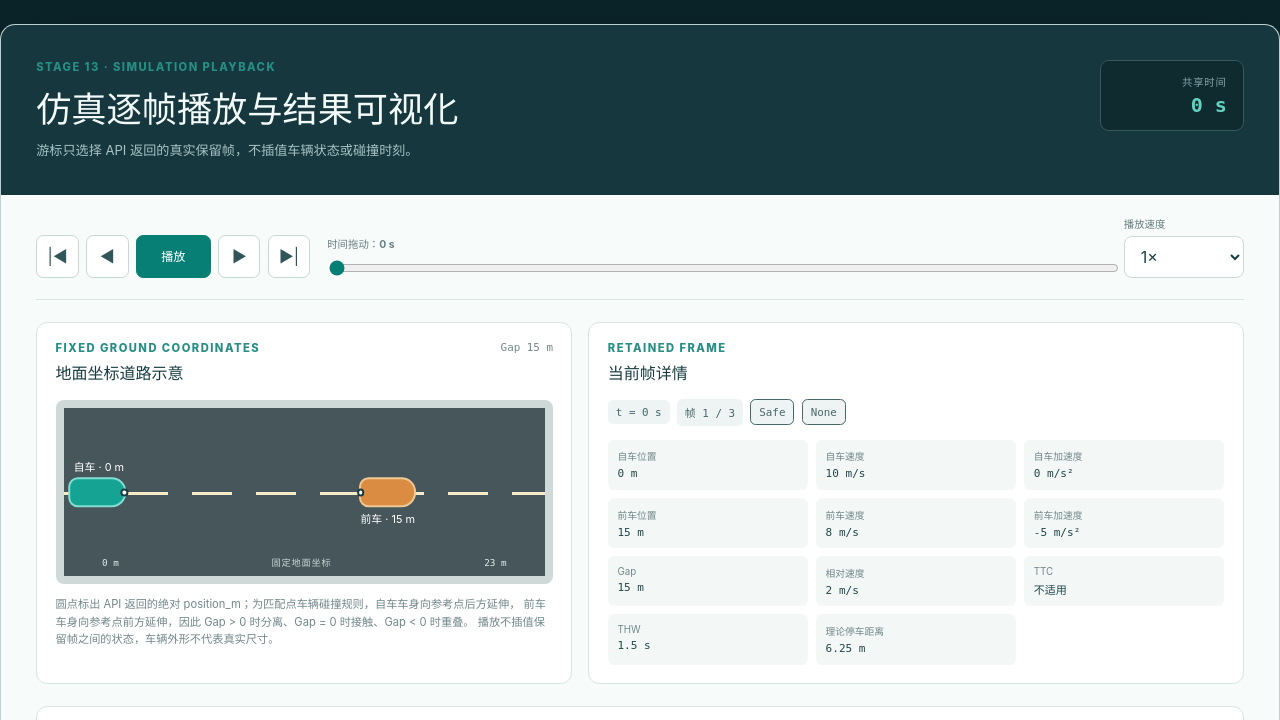
Test: PlaybackWorkbench › moves both vehicles against one fixed ground-coordinate scale
Expected: the element with class "ego-vehicle" is shown, [68, 478, 126, 507]
Expected: the element with class "lead-vehicle" is shown, [358, 478, 416, 507]
Step 1. Click the button named "后一帧" → (239, 256), box [218, 235, 260, 278]
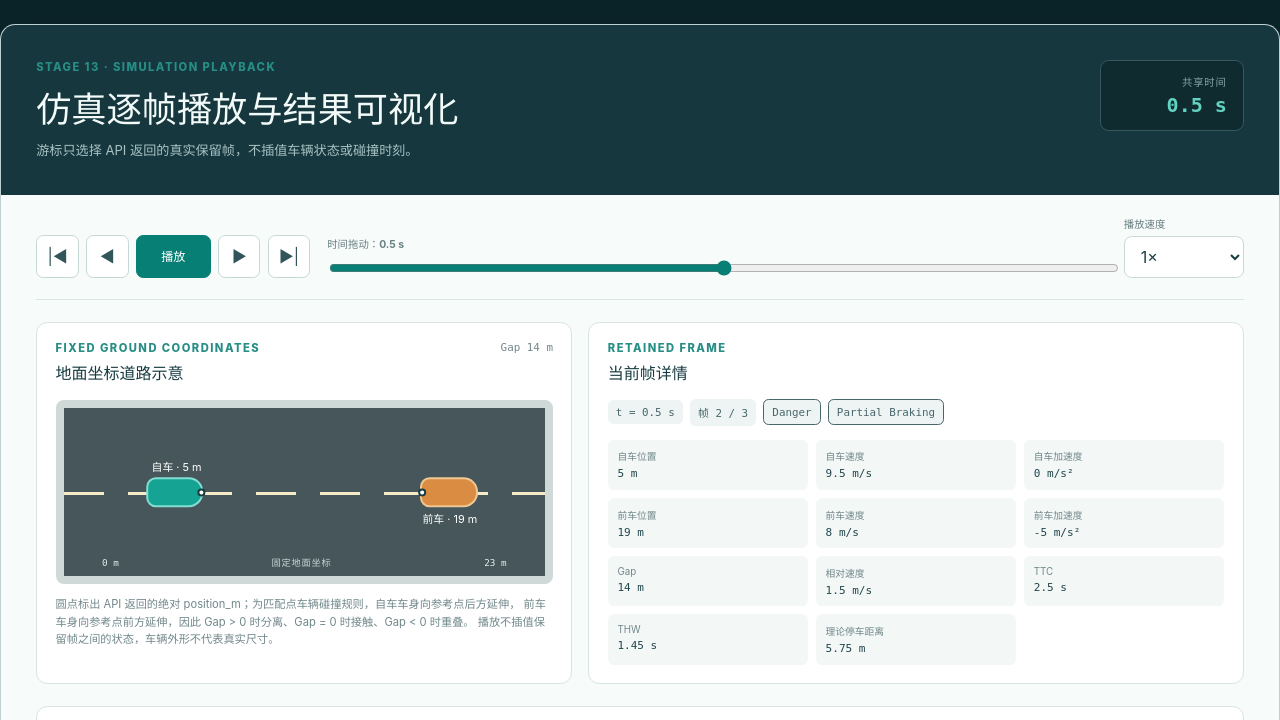
Now the text "自车 · 5 m" is shown, box [152, 458, 202, 474]
Now the text "前车 · 19 m" is shown, box [422, 511, 477, 527]
